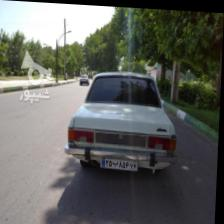plate: (102, 156, 139, 169)
